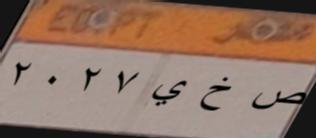0: (44, 73, 60, 91)
2: (10, 55, 33, 91), (82, 60, 103, 97)
7: (113, 66, 141, 97)
khaa: (198, 72, 233, 120)
saad: (245, 83, 310, 112)
yaa: (149, 79, 190, 110)
